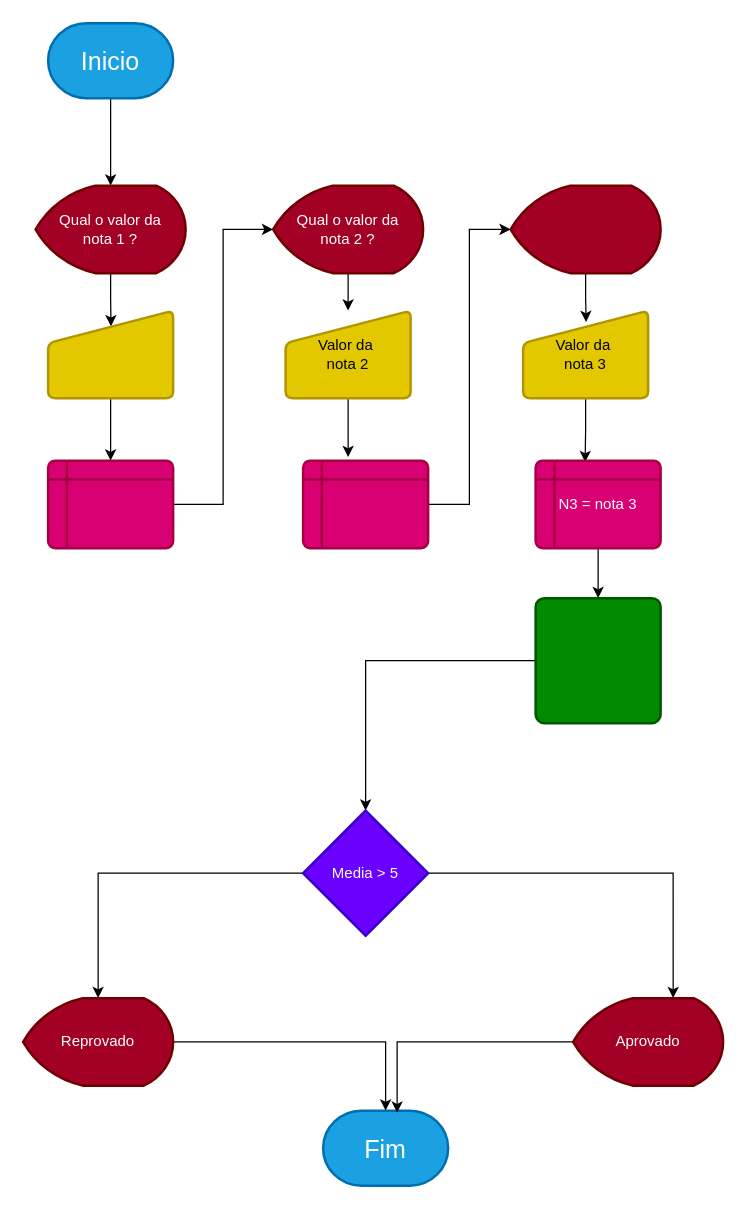
Image size: 745x1208. Some labels were removed from this diagram. Here are the shapes that lost their labels. From the top down, the box of each, then its label:
(509, 184, 661, 274): Qual o valor da nota 3 ?
(46, 309, 174, 399): Valor da nota 1
(46, 459, 174, 549): N1 = nota 1
(301, 459, 429, 549): N2 = nota 2
(534, 596, 661, 724): media =(N1+N2+N3) / 2
